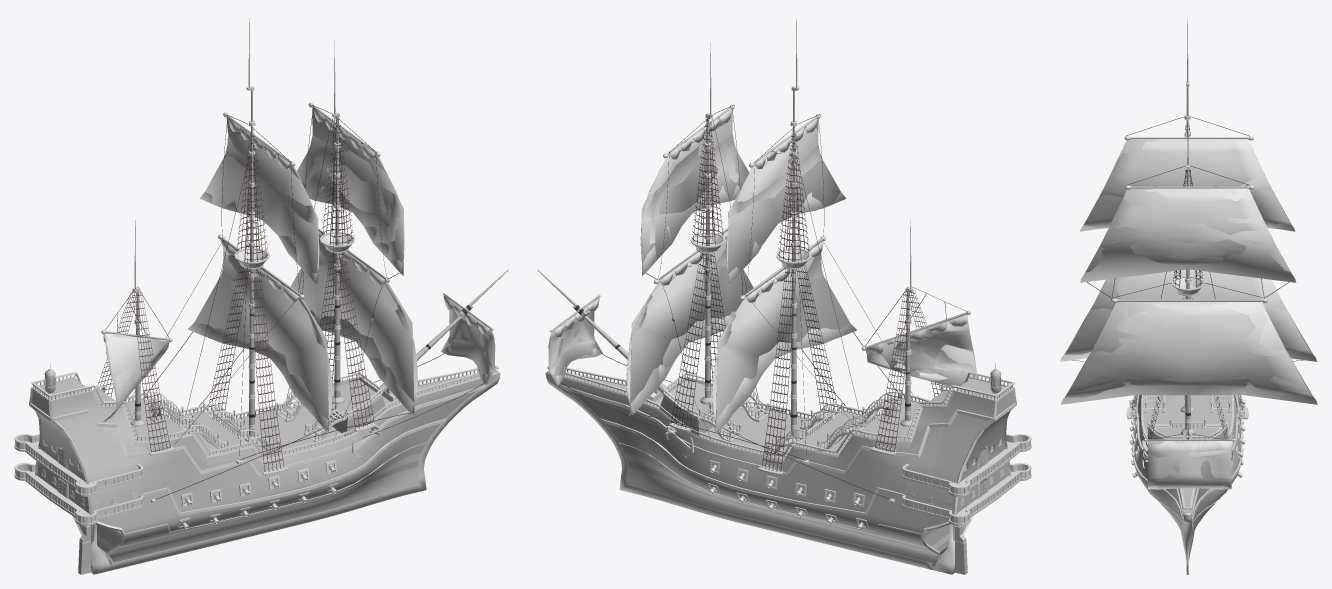
Rendered from Boat2.fbx.
3 renders of one model, left to right at view 1: azimuth 30°, elevation 25°; view 2: azimuth 150°, elevation 25°; view 3: azimuth 270°, elevation 25°, orthographic. The views are drawn at different scales.
Parts seen in each view (by area): view 1: Boat2LOD0, Boat2LOD2Vela1, Boat2LOD1Vela1, Boat2LOD0Vela1, Boat2LOD1Vela2; view 2: Boat2LOD0, Boat2LOD2Vela1, Boat2LOD1Vela1, Boat2LOD0Vela1, Boat2LOD1Vela2; view 3: Boat2LOD0Vela1, Boat2LOD2Vela1, Boat2LOD0, Boat2LOD1Vela1.
Part boxes in pixels (x1,y1,x2,y2): Boat2LOD0: (14,19,508,574); Boat2LOD2Vela1: (104,108,414,430); Boat2LOD1Vela1: (106,118,494,498); Boat2LOD0Vela1: (102,120,495,499); Boat2LOD1Vela2: (103,108,488,341); Boat2LOD0: (537,19,1031,574); Boat2LOD2Vela1: (629,119,977,432); Boat2LOD1Vela1: (548,109,976,499); Boat2LOD0Vela1: (548,119,974,499); Boat2LOD1Vela2: (554,108,968,354); Boat2LOD0Vela1: (1060,139,1316,488); Boat2LOD2Vela1: (1060,139,1317,404); Boat2LOD0: (1111,19,1267,574); Boat2LOD1Vela1: (1060,184,1317,489).
Size of what is drawn, in the model's own units: 5900 by 6240 by 3032.
